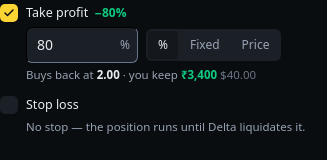
Test: the target, in percent › [critical] above 99% is refused under the box, not clamped
Replace the text in the field named "target percent" with "100" at (82, 45), box [26,27,138,63]
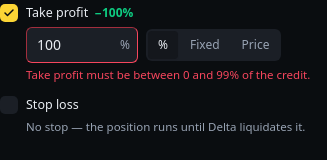
Check: the message reads "Take profit must be between 0 and 99% of the credit.", box [26,67,310,82]
